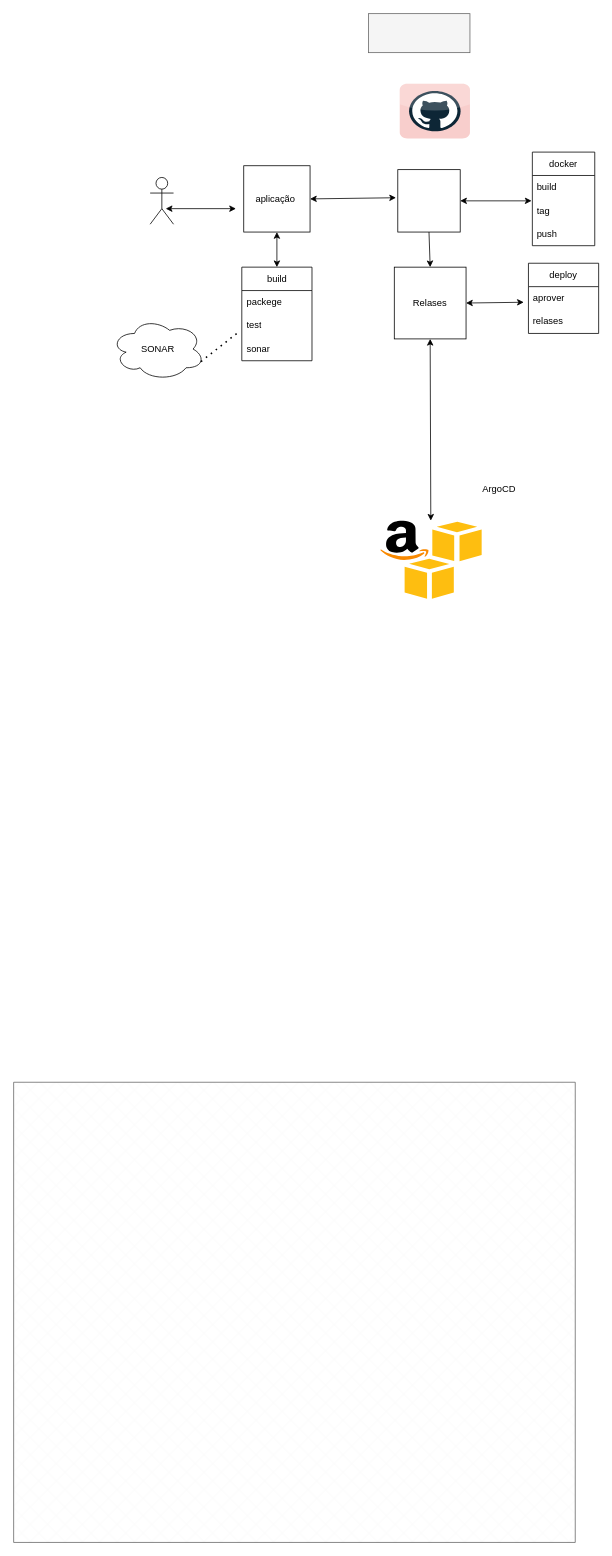
Image size: 612x1556. Some labels were removed from this diagram. Here are the shapes that lost their labels. From the top down, the centre of each, then its label:
At [419,33]: "CI".
At [161,200]: "Actor".
At [428,200]: "Public".
